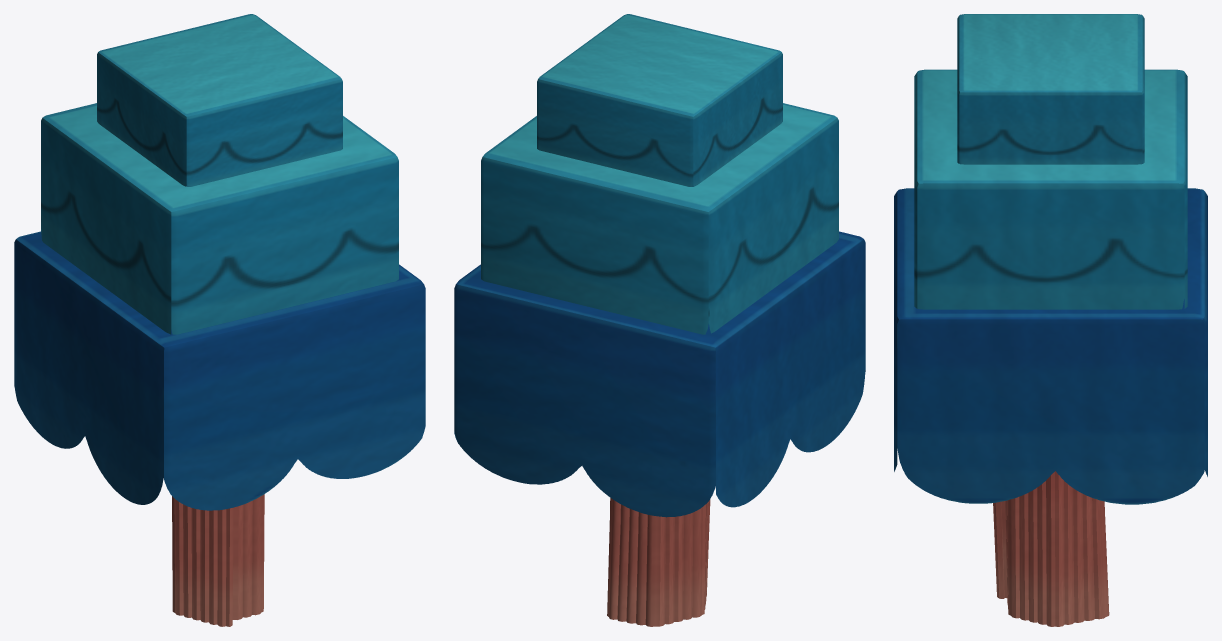
File: prp_cube_tree_a.fbx
The picture shows the model from 3 angles, left to right: view 1: azimuth 30°, elevation 25°; view 2: azimuth 150°, elevation 25°; view 3: azimuth 270°, elevation 25°; orthographic projection. The views are drawn at different scales.
Visible parts, largest first — view 1: Bush013; view 2: Bush013; view 3: Bush013.
Part boxes in pixels (box(x1,y1,x2,y2)): Bush013: box(14, 14, 425, 626); Bush013: box(454, 14, 865, 626); Bush013: box(894, 14, 1207, 626).
Size of the model in its own units: 105 by 204 by 105.
